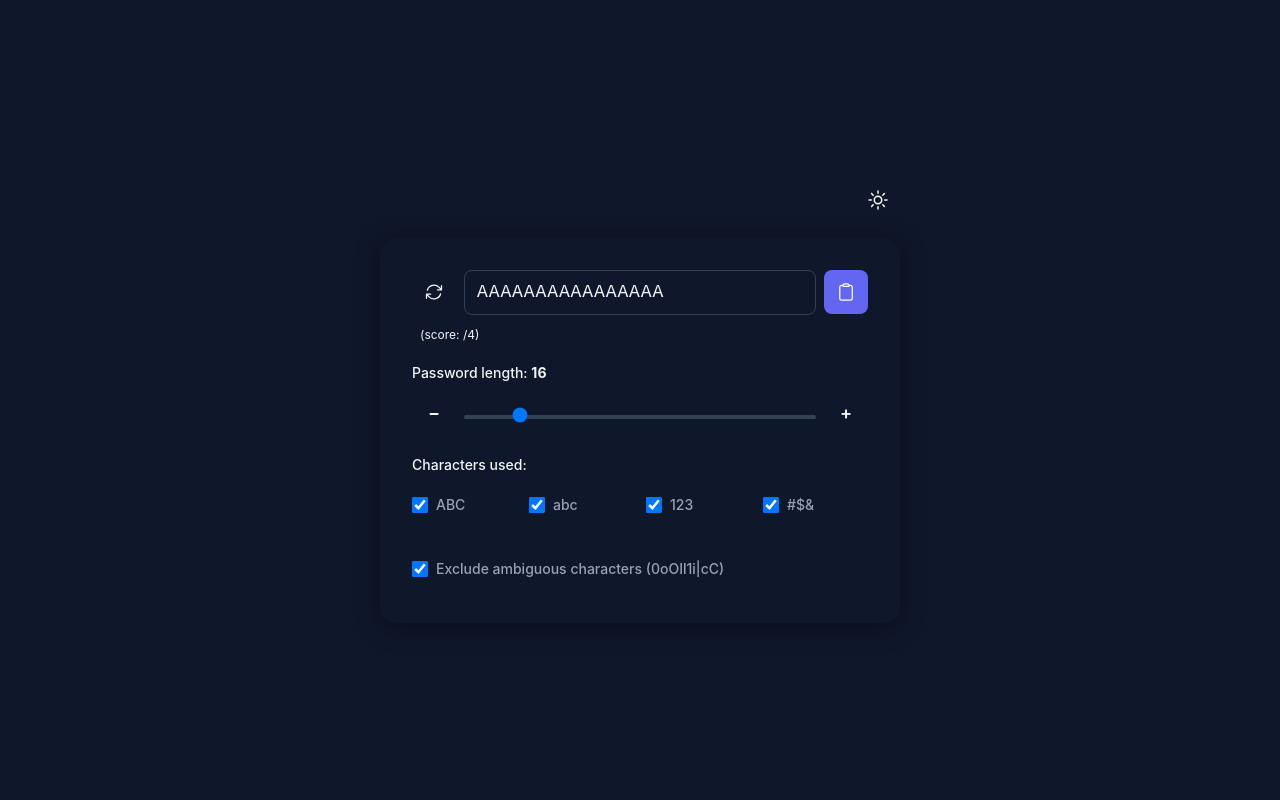
Test case: AC-17/18: Theme toggle switches dark/light class on <html> › clicking theme toggle adds light class then removes it on second click
Note: Act — switch to light
What coordinates should you click on to do the following:
click the button named "switch to light mode"
I would click on:
 (878, 200)
Its box is [856,178,900,222].
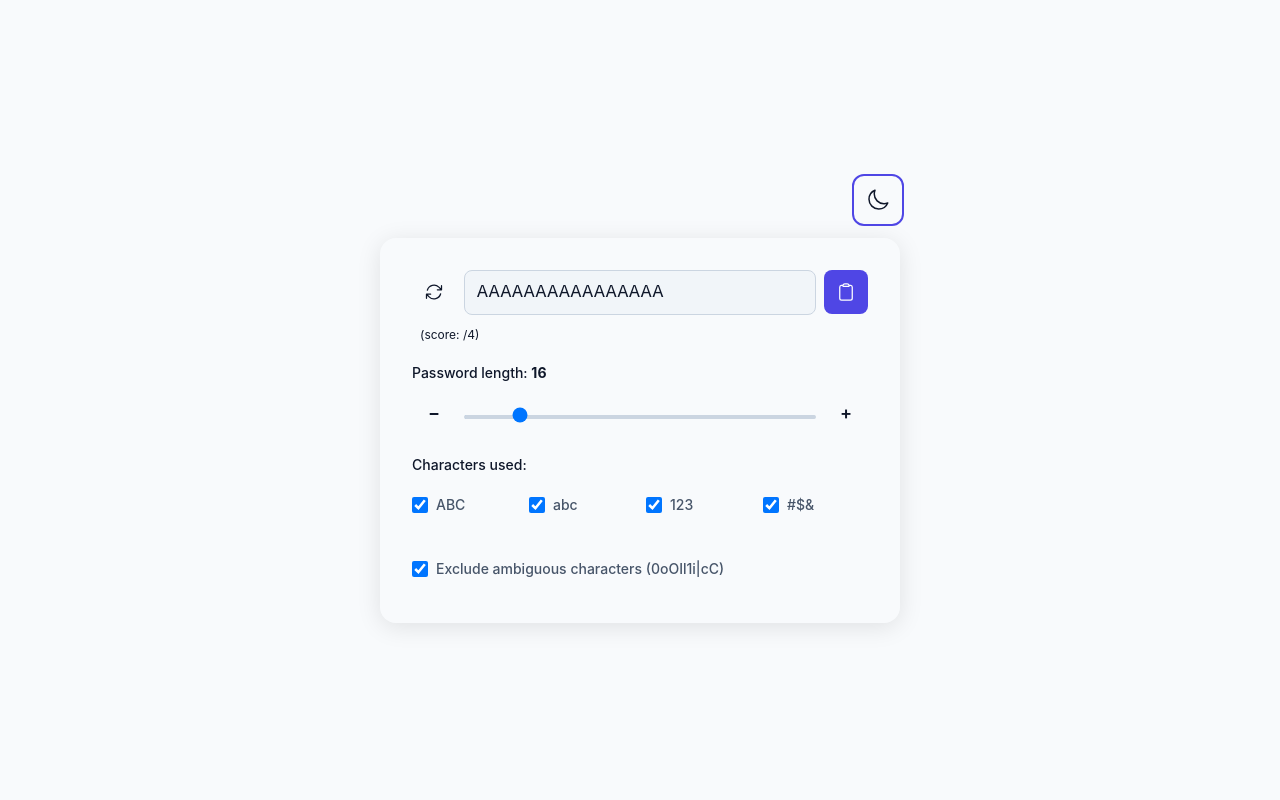
Expected: the button named "switch to dark mode" is shown
Note: Act — switch back to dark
What coordinates should you click on to do the following:
click the button named "switch to dark mode"
I would click on:
 (878, 200)
Its box is [856,178,900,222].
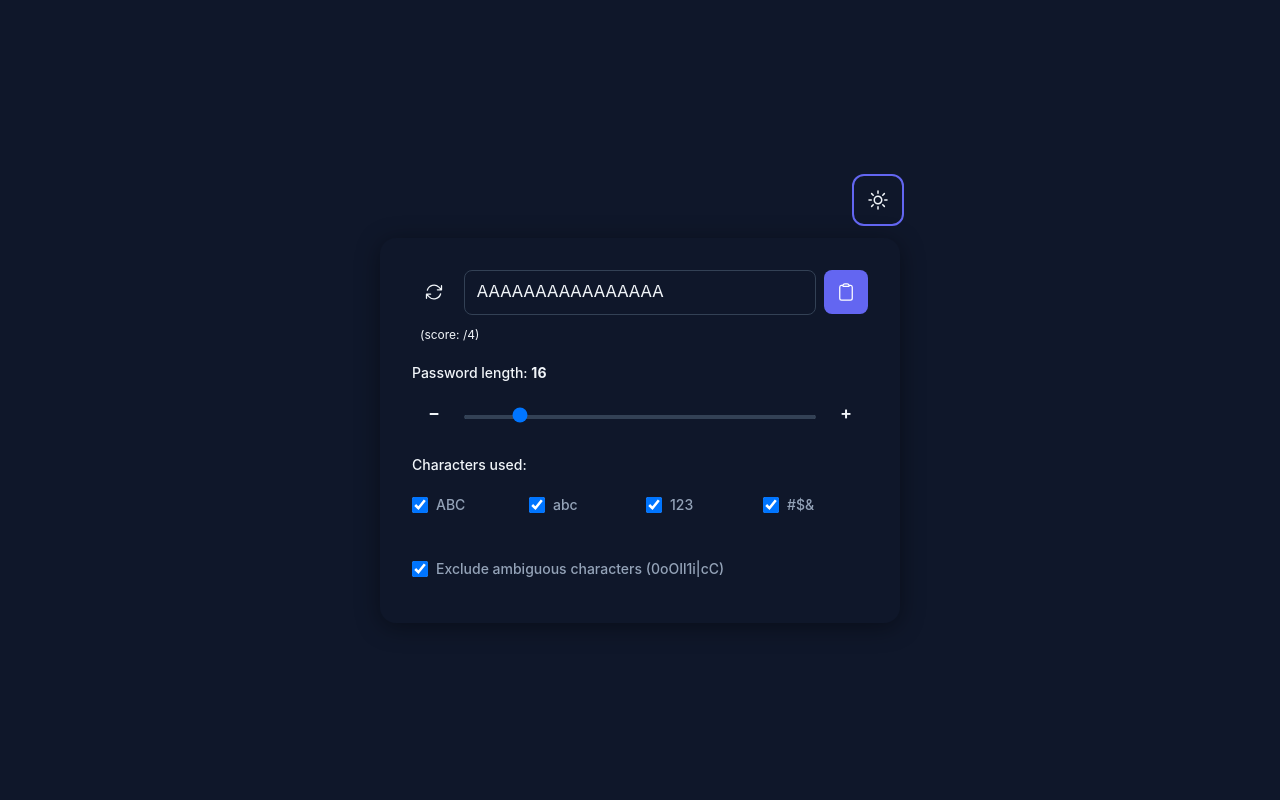
Expected: the button named "switch to light mode" is shown, [856,178,900,222]
